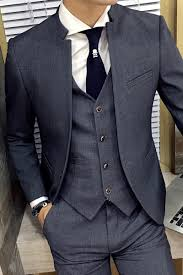F_M_suit jacket: (3, 4, 183, 227)
F_tie: (78, 24, 117, 116)
